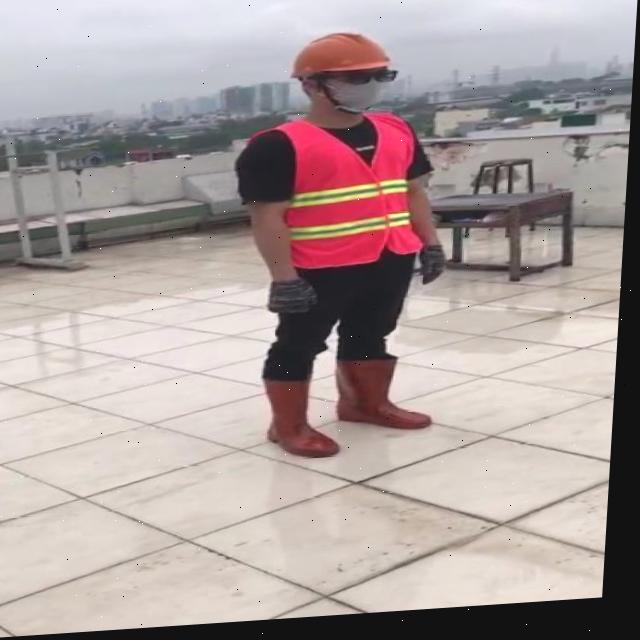Gloves: (271, 279, 324, 320), (421, 248, 450, 291)
Safety-Boot: (335, 356, 440, 440), (264, 377, 348, 465)
Safety-Vest: (243, 111, 436, 280)
